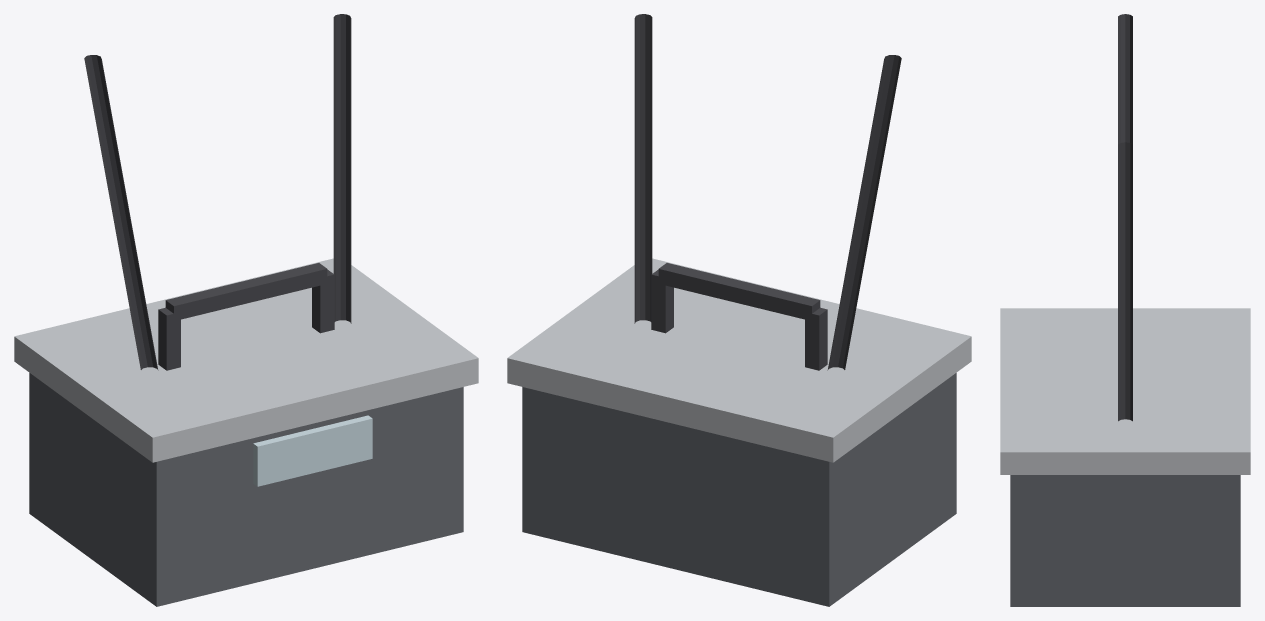
The model's file is bank-vault-heist-kit-jammer-box-97fb9bc3__25131.glb.
3 renders of one model, left to right at view 1: azimuth 30°, elevation 25°; view 2: azimuth 150°, elevation 25°; view 3: azimuth 270°, elevation 25°, orthographic. The views are drawn at different scales.
Parts seen in each view (by area): view 1: jammer-box; view 2: jammer-box; view 3: jammer-box.
Part boxes in pixels (x1=…): jammer-box: x1=14, y1=14, x2=478, y2=606; jammer-box: x1=507, y1=14, x2=971, y2=606; jammer-box: x1=1000, y1=14, x2=1250, y2=606.
Bounding box in the file's own units: 0.34 × 0.5 × 0.25.
